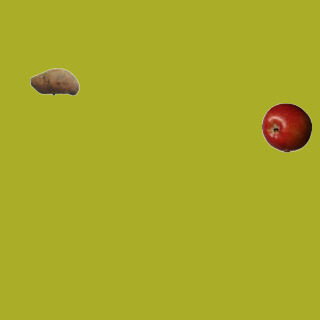Apple Braeburn: (261, 102, 311, 152)
Potato Sweet: (29, 56, 79, 106)
